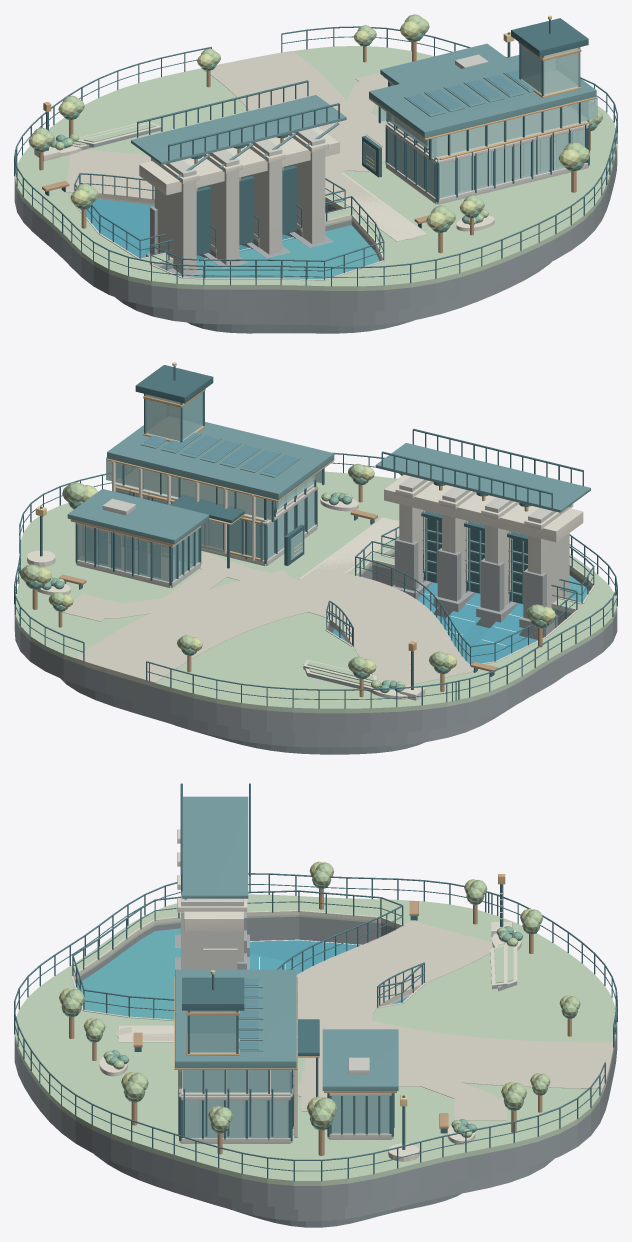
The model's file is flood-control-g.glb.
3 views of the same model, one above another, from view 1: azimuth 30°, elevation 25°; view 2: azimuth 150°, elevation 25°; view 3: azimuth 270°, elevation 25° (orthographic). The views are drawn at different scales.
Visible parts, largest first — view 1: Terrain_Foundation_Components__green, Terrain_Foundation_Components__rock, Terrain_Foundation_Components__floor, Triple_Sluice_Mechanics_Components__concrete, Command_Centre_Components__steel_lite, Command_Centre_Components__glass2, Walkways_Railings_Components__steel, Triple_Sluice_Mechanics_Components__steel_lite, Command_Centre_Components__steel, Triple_Sluice_Mechanics_Components__steel, Hydraulic_Water_Components__water_upper, Triple_Sluice_Mechanics_Components__concrete2 (+20 smaller); view 2: Terrain_Foundation_Components__green, Terrain_Foundation_Components__floor, Terrain_Foundation_Components__rock, Command_Centre_Components__steel_lite, Command_Centre_Components__glass2, Triple_Sluice_Mechanics_Components__steel_lite, Walkways_Railings_Components__steel, Command_Centre_Components__steel, Triple_Sluice_Mechanics_Components__concrete, Triple_Sluice_Mechanics_Components__concrete_shadow, Triple_Sluice_Mechanics_Components__concrete2, Command_Centre_Components__glass (+20 smaller); view 3: Terrain_Foundation_Components__green, Terrain_Foundation_Components__floor, Terrain_Foundation_Components__rock, Command_Centre_Components__steel_lite, Walkways_Railings_Components__steel, Command_Centre_Components__glass, Triple_Sluice_Mechanics_Components__steel_lite, Hydraulic_Water_Components__water_upper, Command_Centre_Components__steel, Riparian_Landscape_Components__leaf2, Triple_Sluice_Mechanics_Components__concrete, Command_Centre_Components__glass2 (+16 smaller).
Boxes of the visible parts, x1,y1,x2,y2 form: Terrain_Foundation_Components__green: (14, 46, 617, 290); Terrain_Foundation_Components__rock: (14, 145, 617, 325); Terrain_Foundation_Components__floor: (66, 51, 419, 239); Triple_Sluice_Mechanics_Components__concrete: (154, 128, 325, 275); Command_Centre_Components__steel_lite: (369, 43, 596, 138); Command_Centre_Components__glass2: (363, 95, 597, 198); Walkways_Railings_Components__steel: (14, 26, 617, 286); Triple_Sluice_Mechanics_Components__steel_lite: (131, 95, 346, 178); Command_Centre_Components__steel: (378, 18, 589, 202); Triple_Sluice_Mechanics_Components__steel: (137, 80, 339, 255); Hydraulic_Water_Components__water_upper: (167, 225, 379, 279); Triple_Sluice_Mechanics_Components__concrete2: (139, 127, 339, 195); Terrain_Foundation_Components__green: (15, 471, 617, 713); Terrain_Foundation_Components__floor: (62, 519, 473, 686); Terrain_Foundation_Components__rock: (14, 553, 617, 747); Command_Centre_Components__steel_lite: (67, 422, 334, 544); Command_Centre_Components__glass2: (78, 457, 321, 581); Triple_Sluice_Mechanics_Components__steel_lite: (375, 443, 590, 604); Walkways_Railings_Components__steel: (14, 452, 617, 708); Command_Centre_Components__steel: (75, 365, 324, 585); Triple_Sluice_Mechanics_Components__concrete: (399, 476, 569, 607); Triple_Sluice_Mechanics_Components__concrete_shadow: (392, 537, 576, 639); Triple_Sluice_Mechanics_Components__concrete2: (384, 474, 583, 590); Command_Centre_Components__glass: (86, 475, 315, 580); Terrain_Foundation_Components__green: (14, 894, 617, 1185); Terrain_Foundation_Components__floor: (116, 920, 613, 1120); Terrain_Foundation_Components__rock: (14, 916, 617, 1221); Command_Centre_Components__steel_lite: (175, 969, 398, 1090); Walkways_Railings_Components__steel: (14, 873, 617, 1181); Command_Centre_Components__glass: (183, 1070, 389, 1137); Triple_Sluice_Mechanics_Components__steel_lite: (181, 796, 248, 900); Hydraulic_Water_Components__water_upper: (77, 928, 180, 1019); Command_Centre_Components__steel: (178, 974, 394, 1141); Riparian_Landscape_Components__leaf2: (61, 862, 580, 1137); Triple_Sluice_Mechanics_Components__concrete: (181, 891, 243, 969); Command_Centre_Components__glass2: (180, 1070, 291, 1138).
Size of the model in its own units: 38.89 by 16.72 by 34.55.
